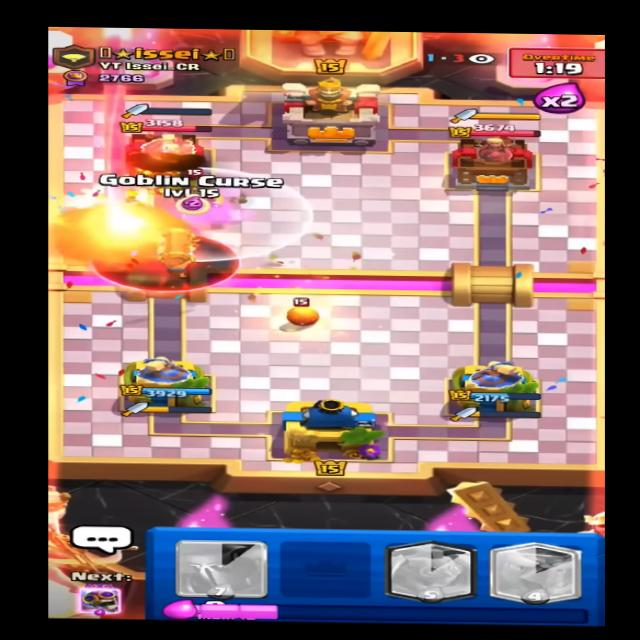phoenix-egg: (284, 297, 330, 329)
